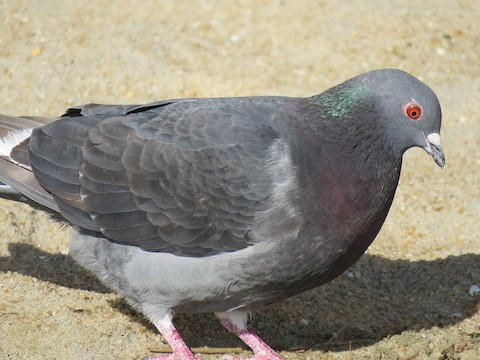pigeon: (6, 61, 453, 353)
